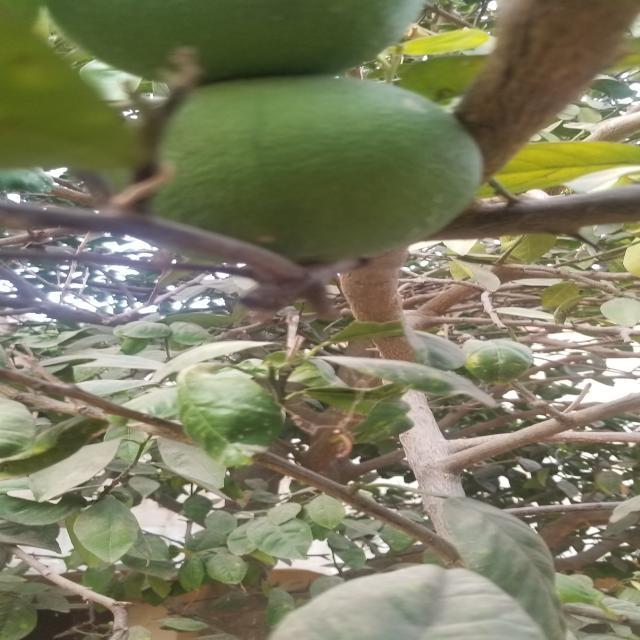agrume: (128, 78, 500, 281), (42, 0, 434, 76)
